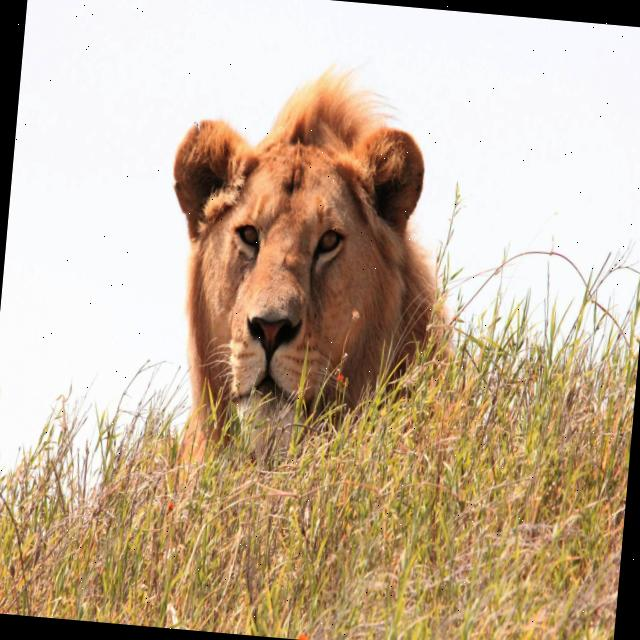Lion: (148, 51, 473, 484)
